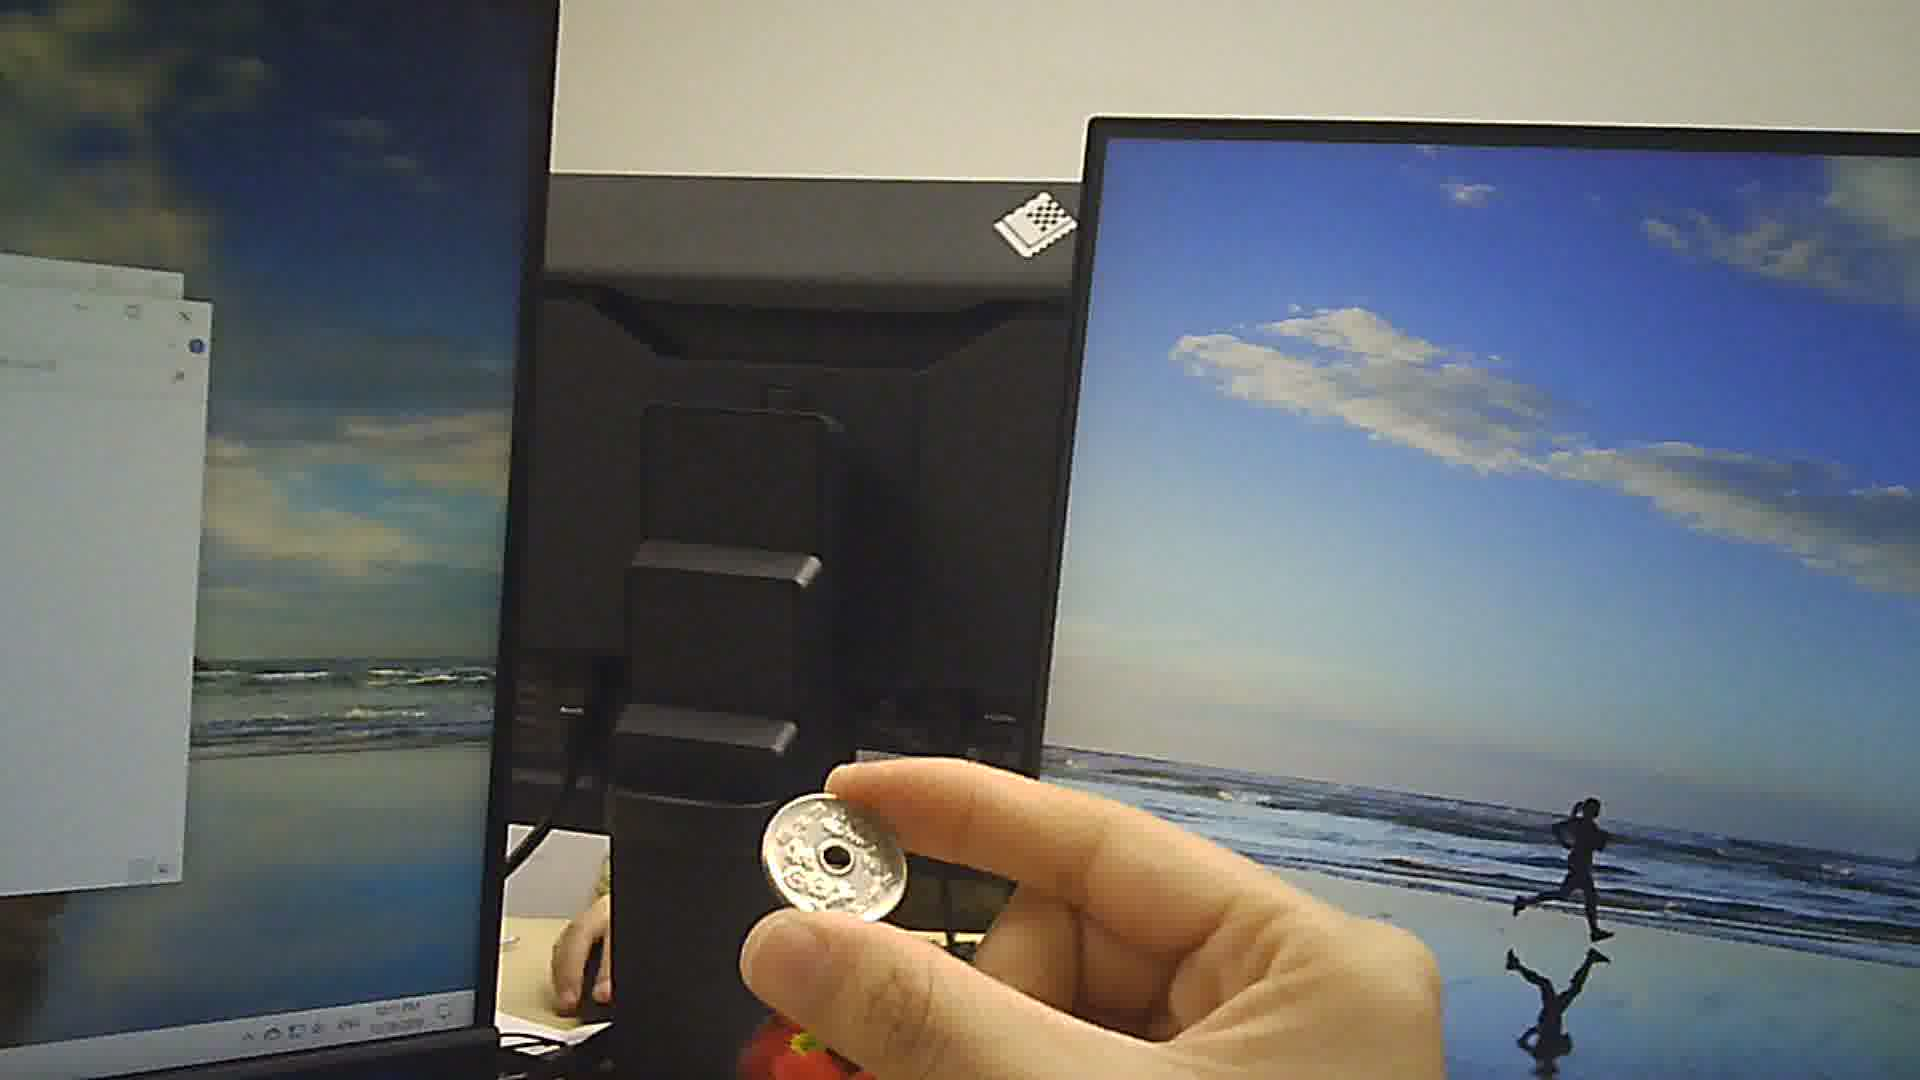50 Yen: (754, 785, 915, 928)
